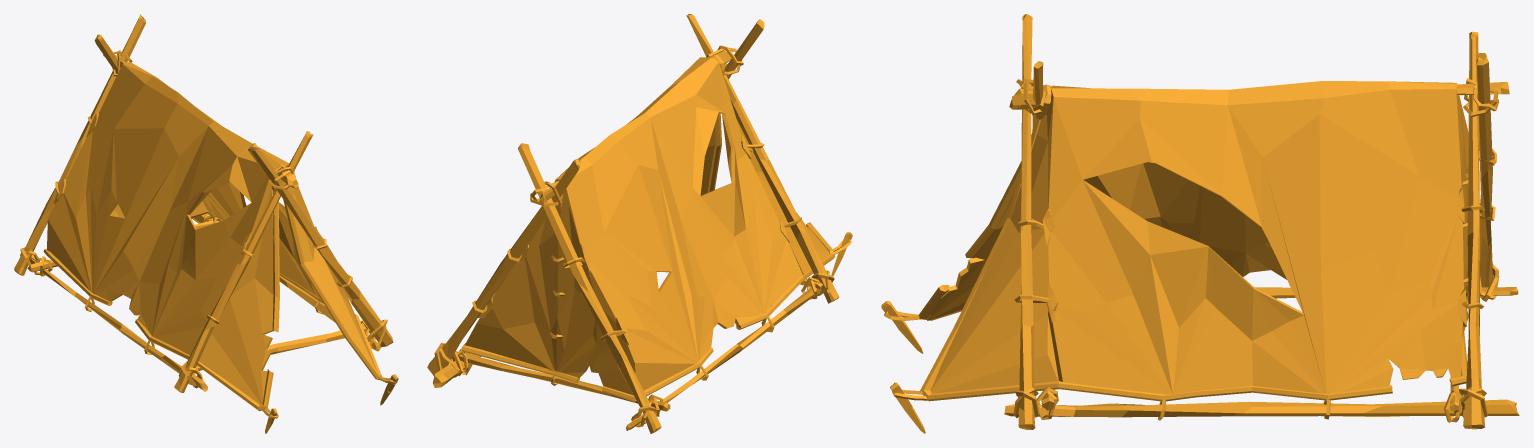
Rendered from SM_Tent_Norseman_Striped_Damaged_Fantasy.fbx.
The picture shows the model from 3 angles, left to right: view 1: azimuth 30°, elevation 25°; view 2: azimuth 150°, elevation 25°; view 3: azimuth 270°, elevation 25°; orthographic projection. The views are drawn at different scales.
Parts seen in each view (by area): view 1: tent-norseman-striped-damaged-fantasy; view 2: tent-norseman-striped-damaged-fantasy; view 3: tent-norseman-striped-damaged-fantasy.
Part boxes in pixels (x1=…): tent-norseman-striped-damaged-fantasy: x1=14, y1=14, x2=398, y2=433; tent-norseman-striped-damaged-fantasy: x1=427, y1=14, x2=852, y2=433; tent-norseman-striped-damaged-fantasy: x1=881, y1=14, x2=1519, y2=433.
Bounding box in the file's own units: 2.12 × 2.46 × 3.96.
